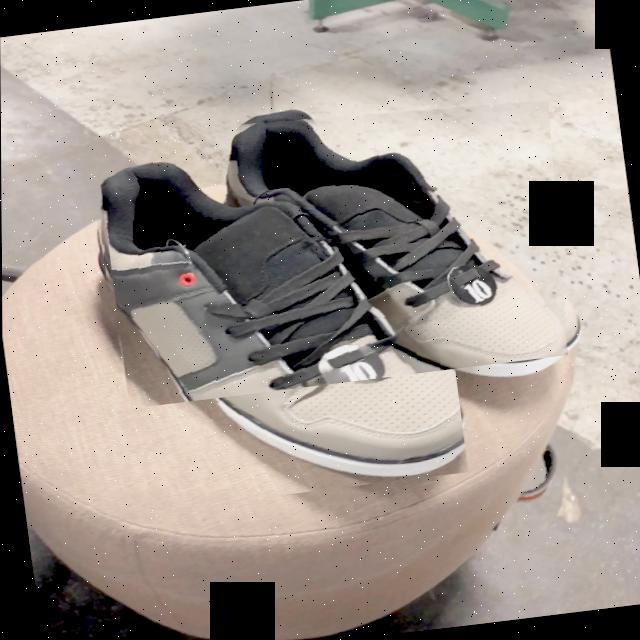shoe: (101, 118, 568, 368), (100, 160, 464, 480)
